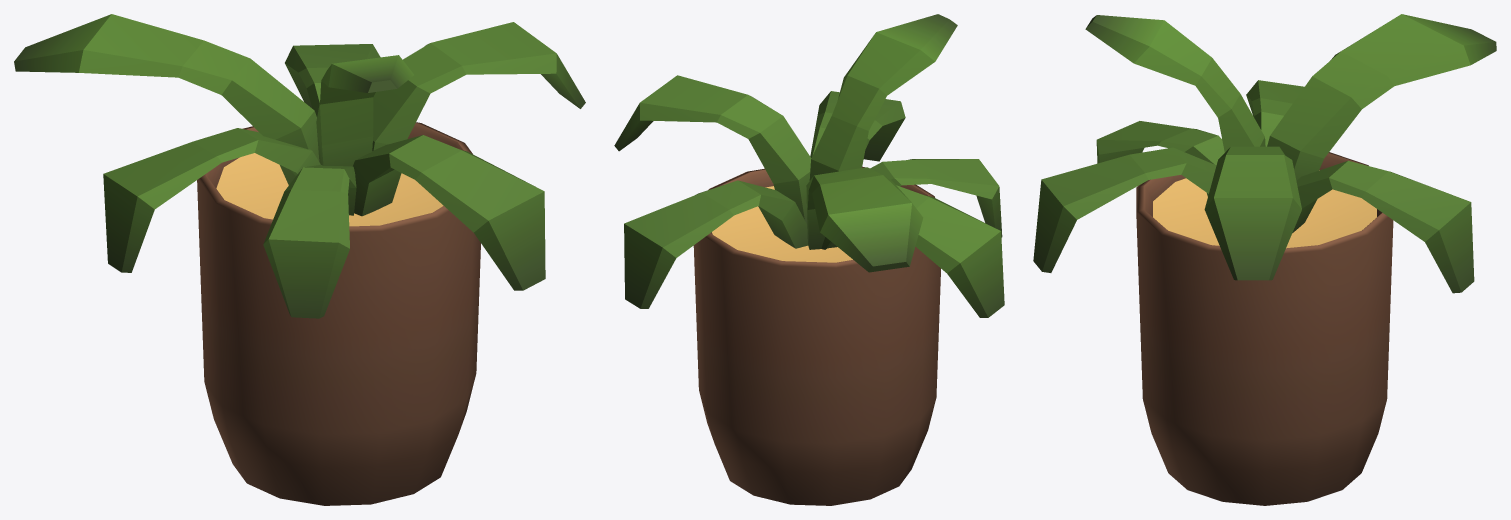
The model's file is PP_Pot1.fbx.
3 renders of one model, left to right at view 1: azimuth 30°, elevation 25°; view 2: azimuth 150°, elevation 25°; view 3: azimuth 270°, elevation 25°, orthographic. The views are drawn at different scales.
Parts seen in each view (by area): view 1: Pot_1; view 2: Pot_1; view 3: Pot_1.
Part boxes in pixels (x1=…): Pot_1: x1=14, y1=14, x2=585, y2=505; Pot_1: x1=614, y1=14, x2=1004, y2=505; Pot_1: x1=1033, y1=14, x2=1496, y2=505.
Bounding box in the file's own units: 37.66 × 37.16 × 36.79.
